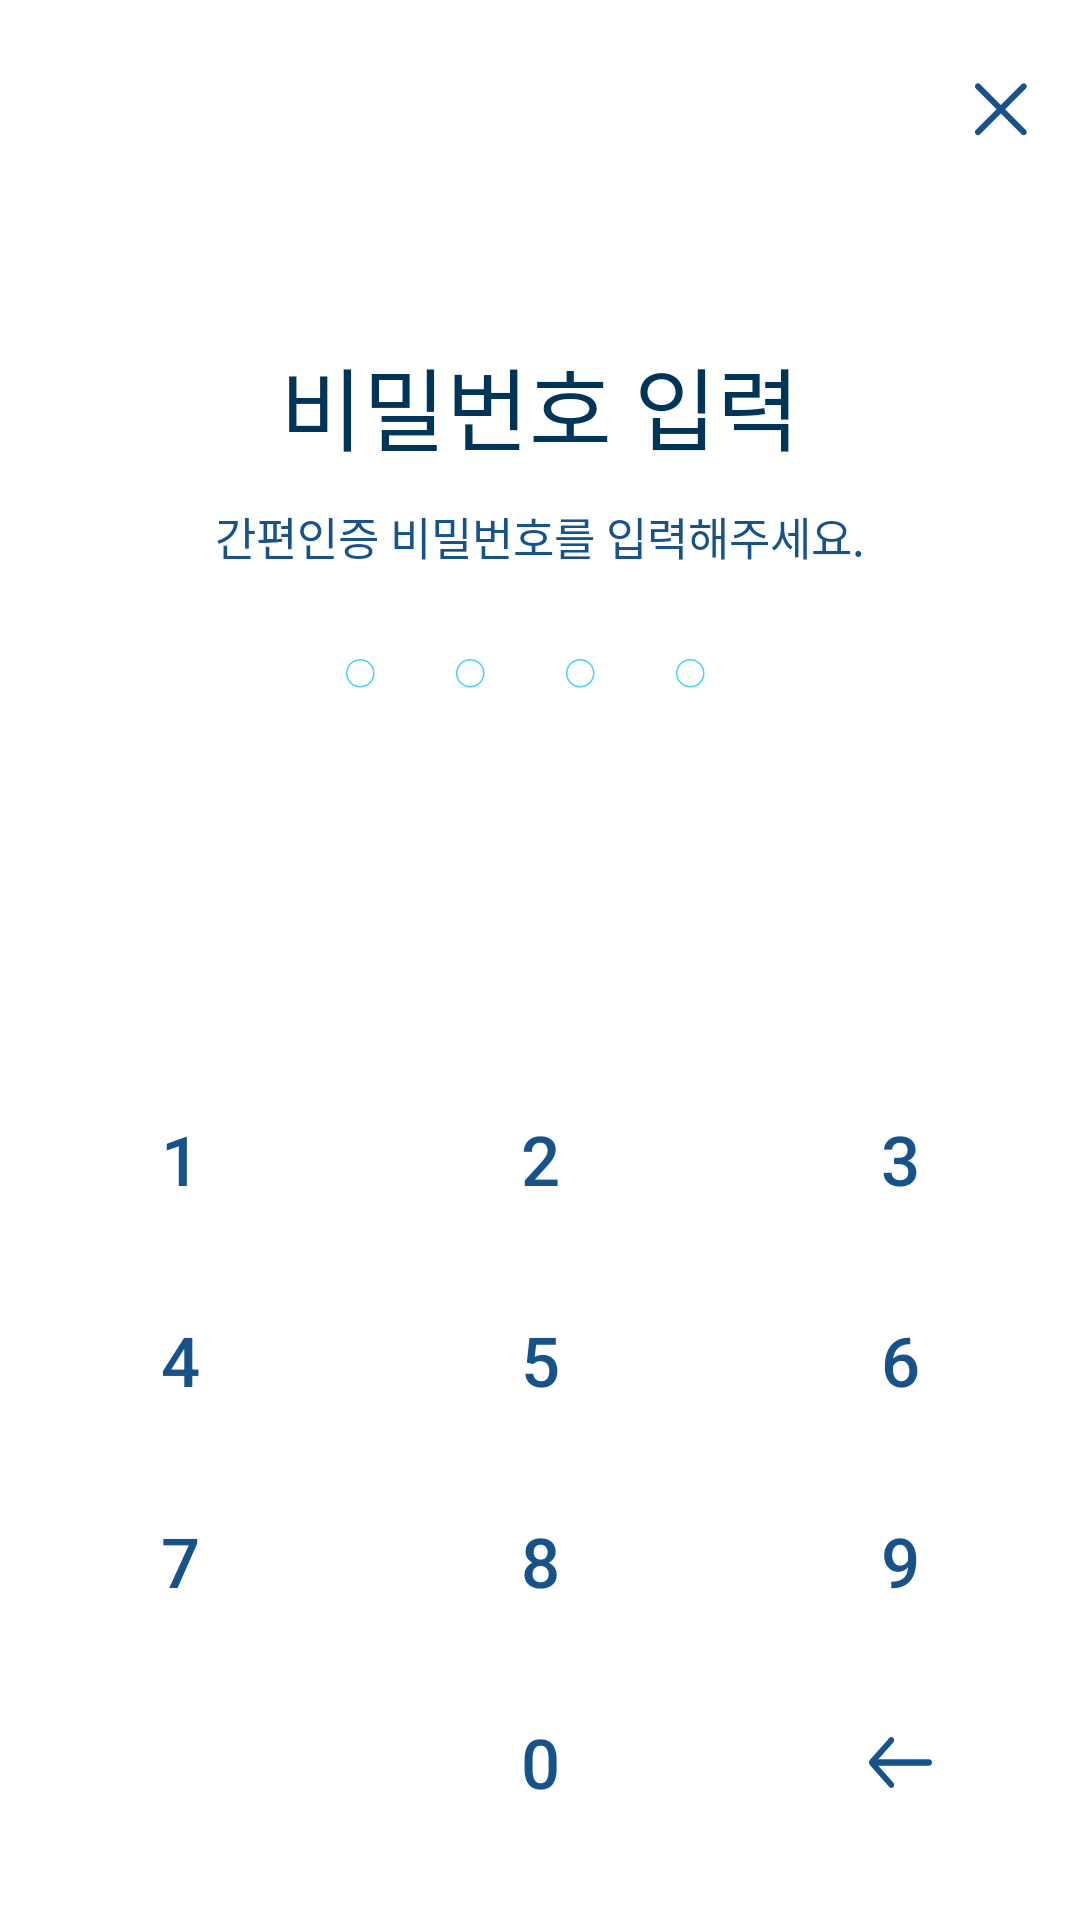

Named icons in this screenshot (1080 x 1920) and their centers, [x,y]:
close but: [1001,109]
key arrow: [900,1762]
